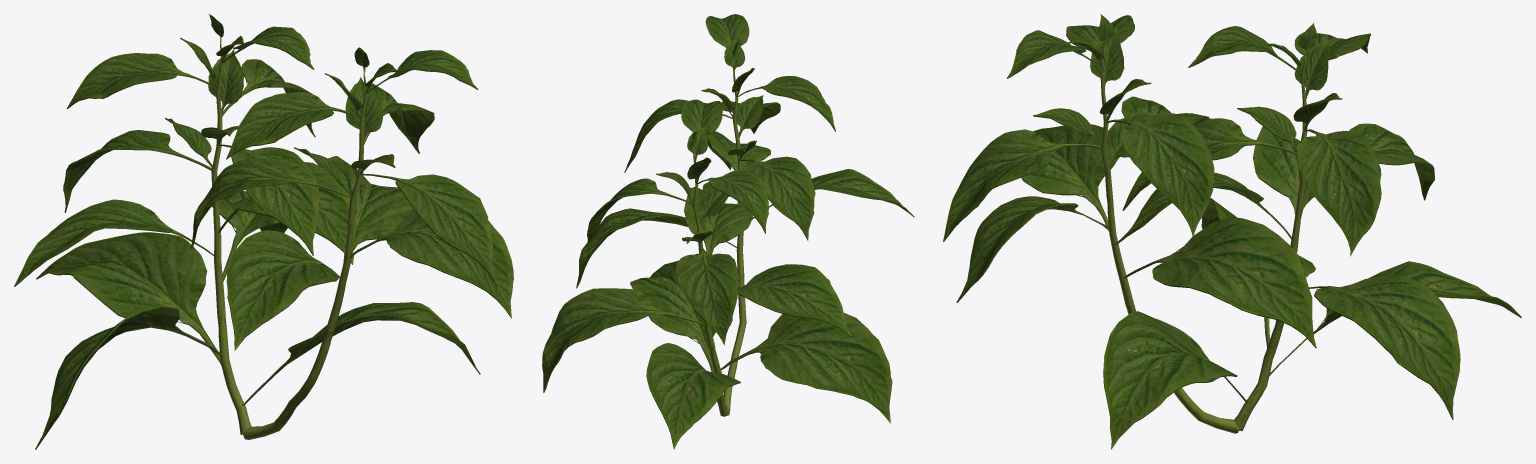
3 renders of one model, left to right at view 1: azimuth 30°, elevation 25°; view 2: azimuth 150°, elevation 25°; view 3: azimuth 270°, elevation 25°, orthographic. The views are drawn at different scales.
Visible parts, largest first — view 1: VG07_003; view 2: VG07_003; view 3: VG07_003.
Part boxes in pixels (left/top/right/bottom): VG07_003: left=14, top=14, right=513, bottom=449; VG07_003: left=542, top=14, right=914, bottom=449; VG07_003: left=943, top=14, right=1521, bottom=449.
Bounding box in the file's own units: 0.3406 × 0.4297 × 0.362.
Materials: 2 (2 with a texture image).
